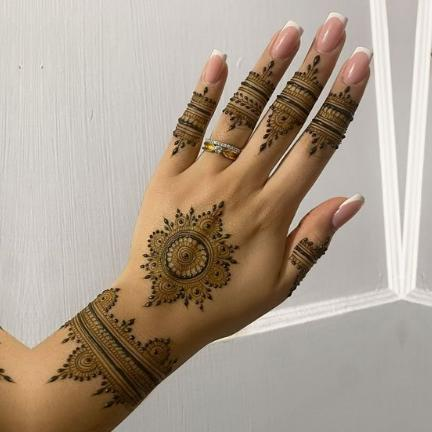Nail: (316, 11, 348, 52), (271, 20, 304, 59), (332, 193, 365, 230), (343, 46, 372, 84), (204, 49, 226, 83), (431, 51, 432, 57)
